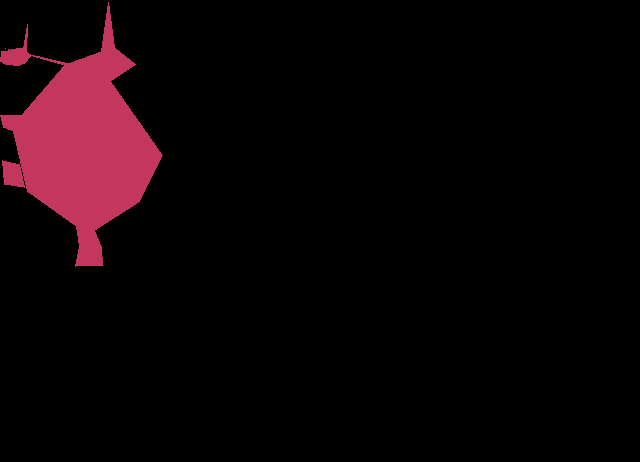Airplane: (0, 2, 162, 267), (0, 24, 31, 66)
